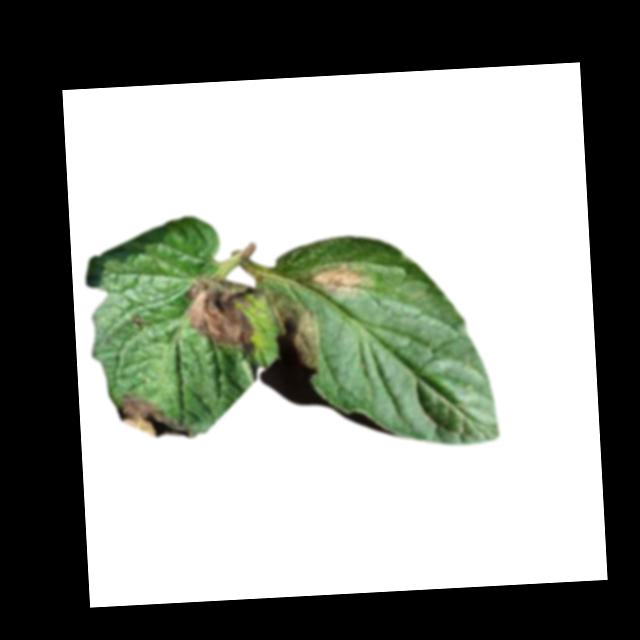Late_blight: (182, 272, 256, 363), (264, 286, 321, 375), (116, 392, 196, 441), (304, 260, 368, 299), (130, 314, 144, 328)
